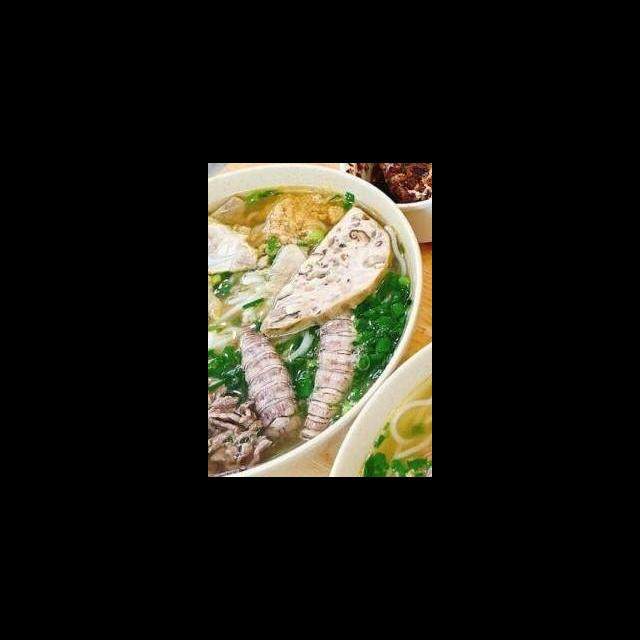bun: (209, 269, 279, 357)
tom tit: (297, 300, 364, 447), (236, 314, 307, 445)
